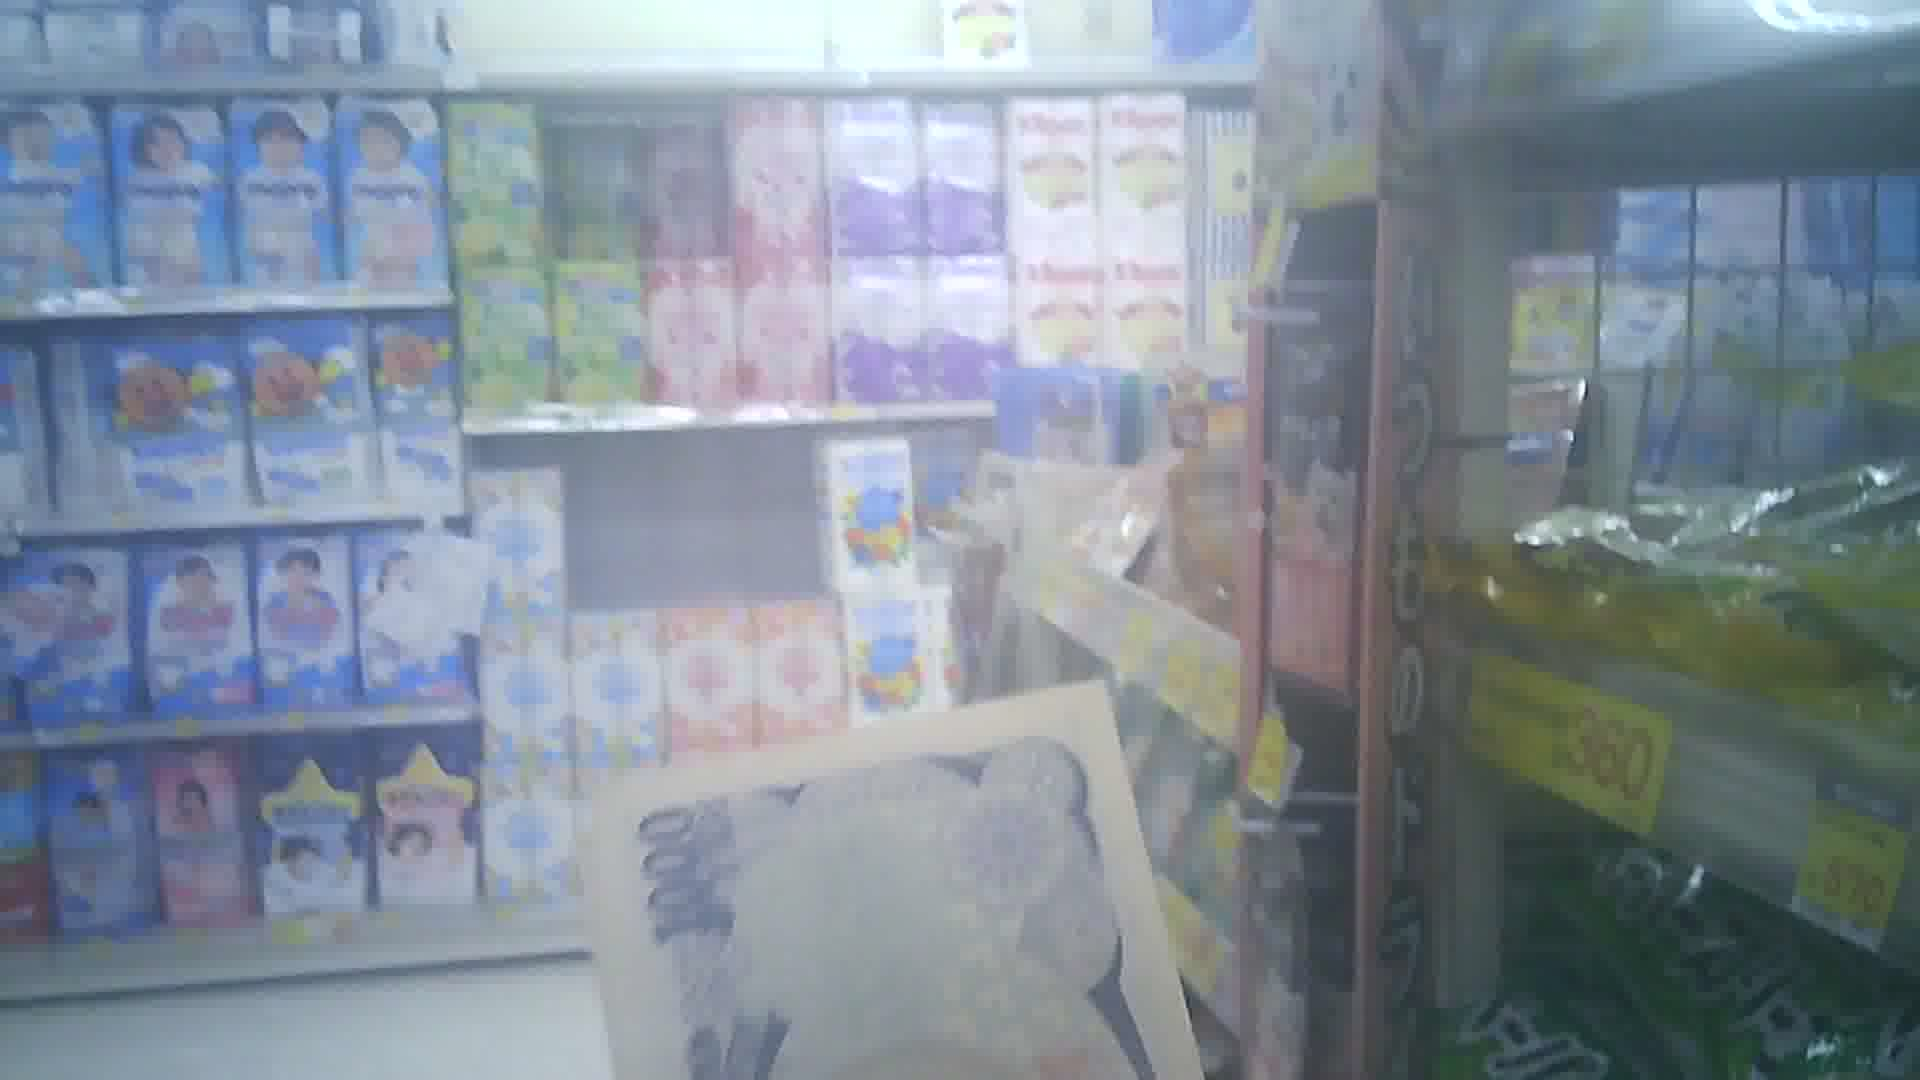1,000 Yen: (588, 692, 1175, 1079)
